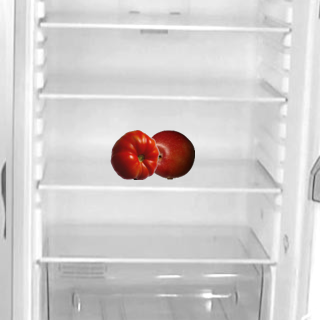Apple Braeburn: (144, 129, 194, 179)
Tomato 3: (109, 129, 159, 179)
